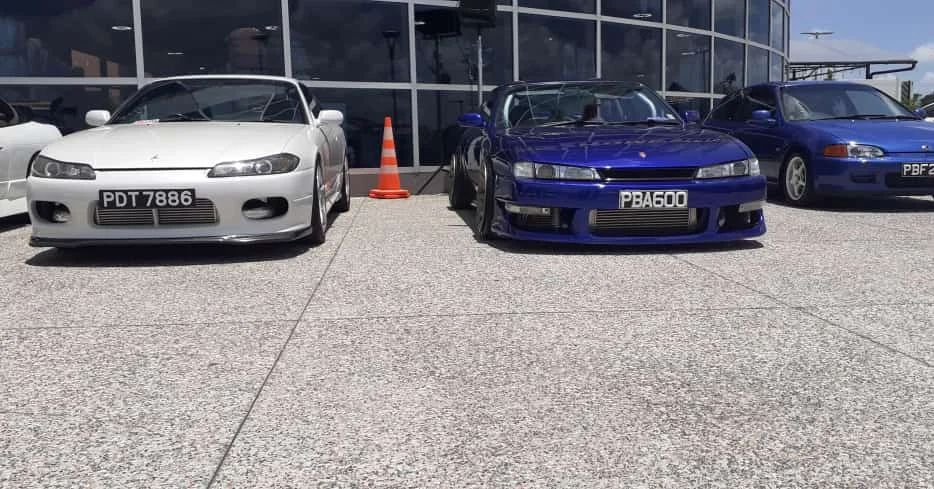License-Plate: (98, 190, 194, 209)
